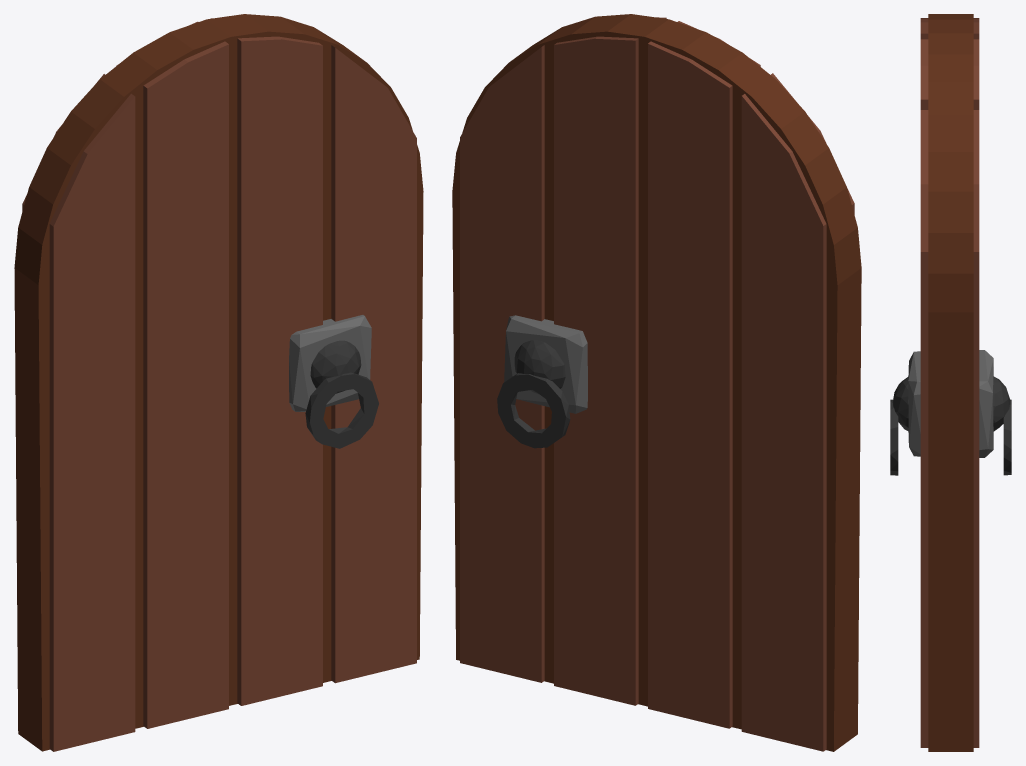
The model's file is door.glb.
3 renders of one model, left to right at view 1: azimuth 30°, elevation 25°; view 2: azimuth 150°, elevation 25°; view 3: azimuth 270°, elevation 25°, orthographic. The views are drawn at different scales.
Parts seen in each view (by area): view 1: Plane.005, Circle, Cube, Circle.001, Sphere; view 2: Plane.005, Circle, Cube, Circle.002, Sphere; view 3: Circle, Plane.005, Cube, Sphere, Circle.001, Circle.002.
Boxes of the visible parts, bbox=[...] form: Plane.005: bbox=[22, 18, 416, 751]; Circle: bbox=[14, 14, 423, 751]; Cube: bbox=[289, 315, 371, 411]; Circle.001: bbox=[305, 372, 378, 448]; Sphere: bbox=[310, 340, 361, 393]; Plane.005: bbox=[460, 17, 854, 751]; Circle: bbox=[452, 14, 861, 751]; Cube: bbox=[504, 315, 587, 413]; Circle.002: bbox=[497, 373, 570, 448]; Sphere: bbox=[514, 340, 565, 394]; Circle: bbox=[928, 14, 973, 751]; Plane.005: bbox=[920, 18, 979, 747]; Cube: bbox=[908, 350, 993, 457]; Sphere: bbox=[892, 376, 1010, 431]; Circle.001: bbox=[890, 399, 898, 475]; Circle.002: bbox=[1003, 399, 1011, 475].
Bounding box in the file's own units: 2 × 3.32 × 0.5784.
